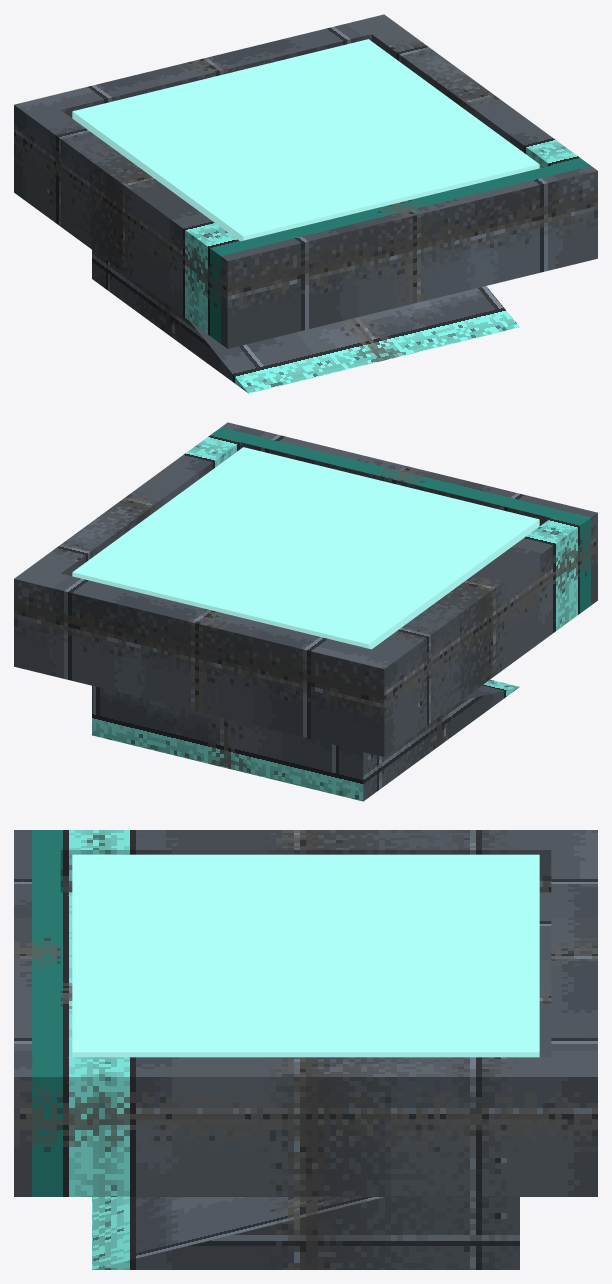
Rendered from wind_perch.glb.
The picture shows the model from 3 angles, top to bottom: view 1: azimuth 30°, elevation 25°; view 2: azimuth 150°, elevation 25°; view 3: azimuth 270°, elevation 25°; orthographic projection. The views are drawn at different scales.
Parts seen in each view (by area): view 1: wind_perch; view 2: wind_perch; view 3: wind_perch.
Boxes of the visible parts, x1=… form: wind_perch: x1=14, y1=14, x2=597, y2=393; wind_perch: x1=14, y1=422, x2=597, y2=801; wind_perch: x1=14, y1=830, x2=597, y2=1269.
Size of the model in its own units: 1.5 by 0.64 by 1.5.
2 materials, 1 textured.
